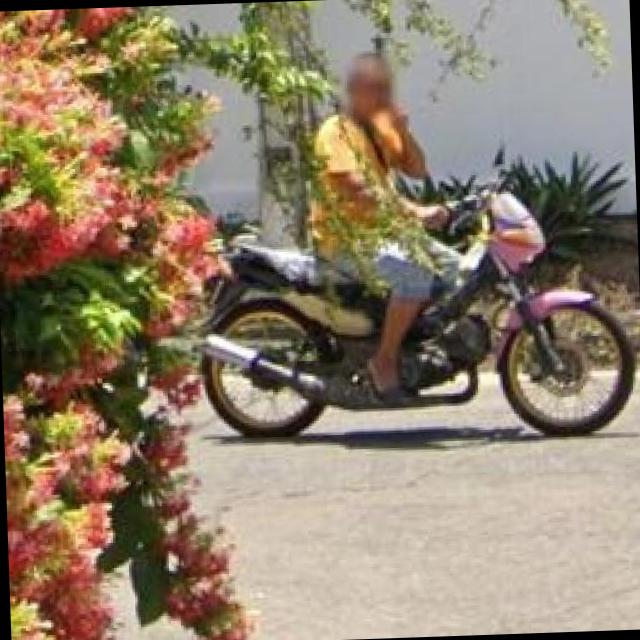bike: (201, 189, 639, 440)
